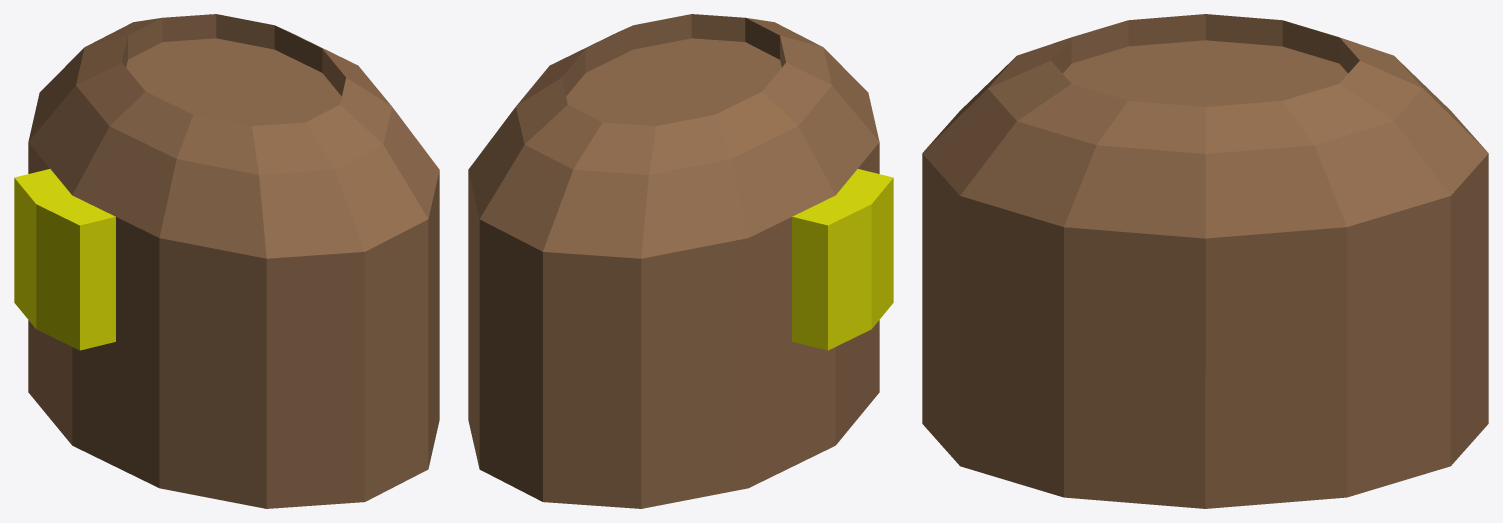
Rendered from skrzynka.fbx.
3 renders of one model, left to right at view 1: azimuth 30°, elevation 25°; view 2: azimuth 150°, elevation 25°; view 3: azimuth 270°, elevation 25°, orthographic. The views are drawn at different scales.
Parts seen in each view (by area): view 1: Cylinder; view 2: Cylinder; view 3: Cylinder.
Boxes of the visible parts, left/top/right/bottom form: Cylinder: left=14, top=14, right=439, bottom=508; Cylinder: left=468, top=14, right=893, bottom=508; Cylinder: left=922, top=14, right=1488, bottom=508.
Bounding box in the file's own units: 301 × 269 × 380.
